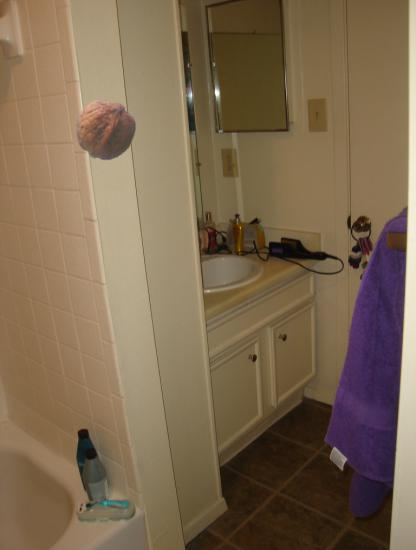Walnut: (74, 99, 137, 162)
